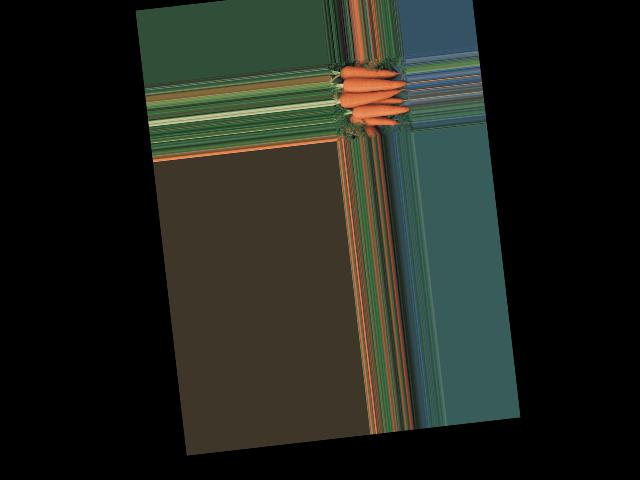carrot: (348, 99, 408, 124)
